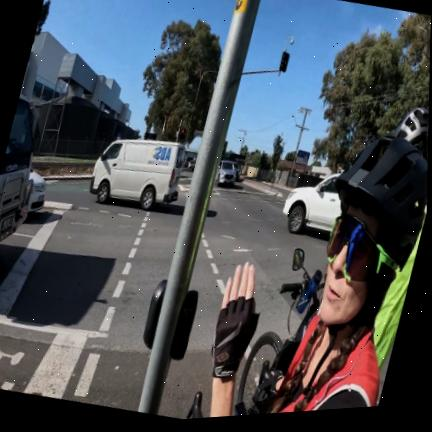Green_Bike_Lane: (46, 180, 90, 193)
